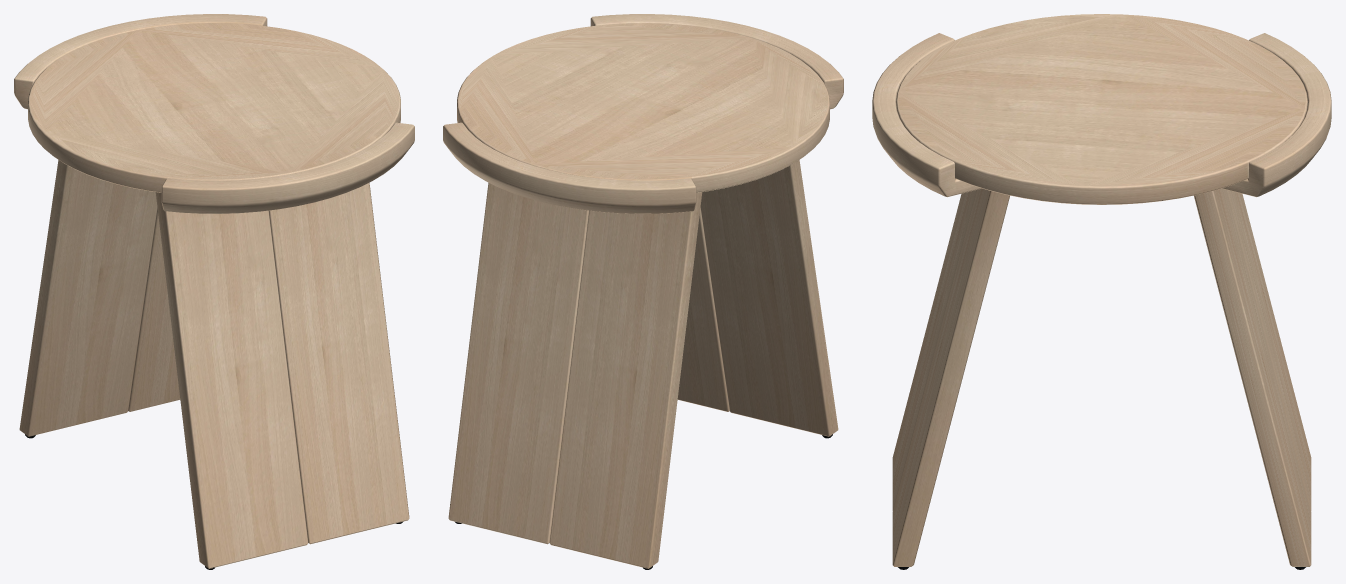
Rendered from bk_side_table.obj.
3 renders of one model, left to right at view 1: azimuth 30°, elevation 25°; view 2: azimuth 150°, elevation 25°; view 3: azimuth 270°, elevation 25°, orthographic. The views are drawn at different scales.
Size of the model in its own units: 0.8943 by 1 by 0.9977.
Materials: 1 (1 with a texture image).
